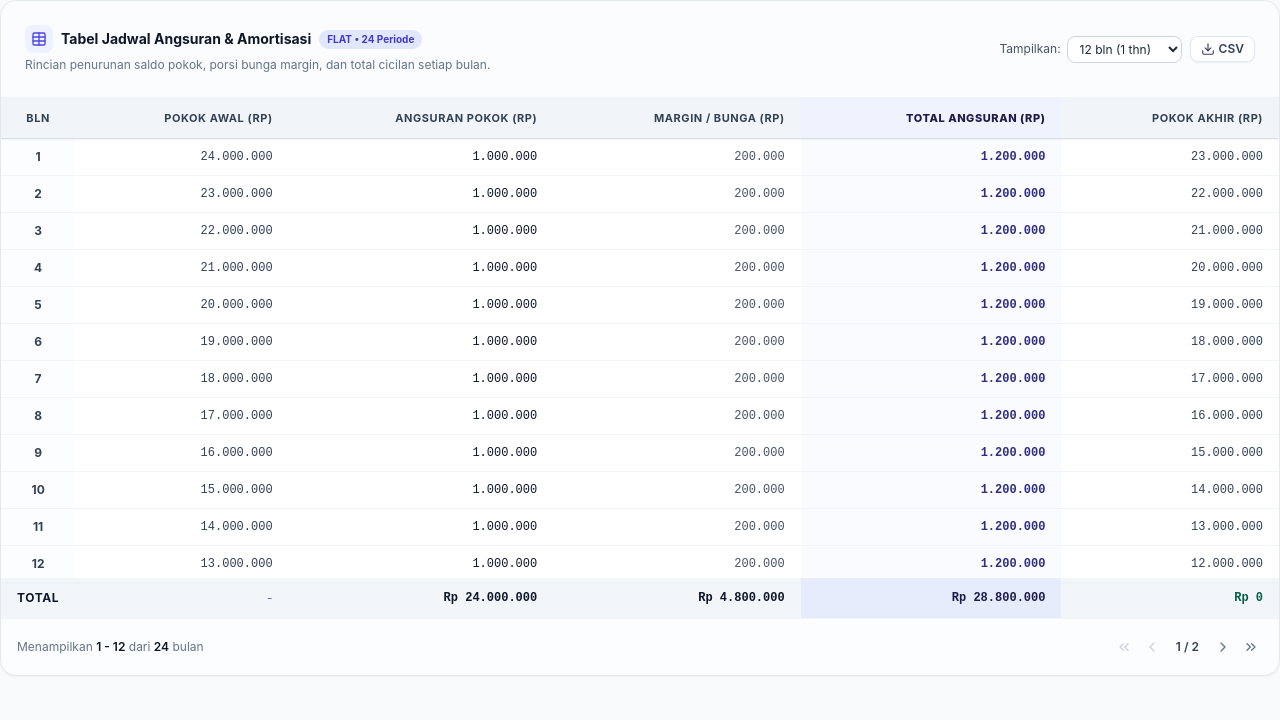
TASK-050: Amortization UI Table Tests › should allow changing page size to show all rows
The width and height of the screenshot is (1280, 720).
Select "24 bln (2 thn)" in the dropdown with test id "amortization-pagesize-select" at (1124, 49), box [1067, 36, 1182, 62]
(page scrolled)
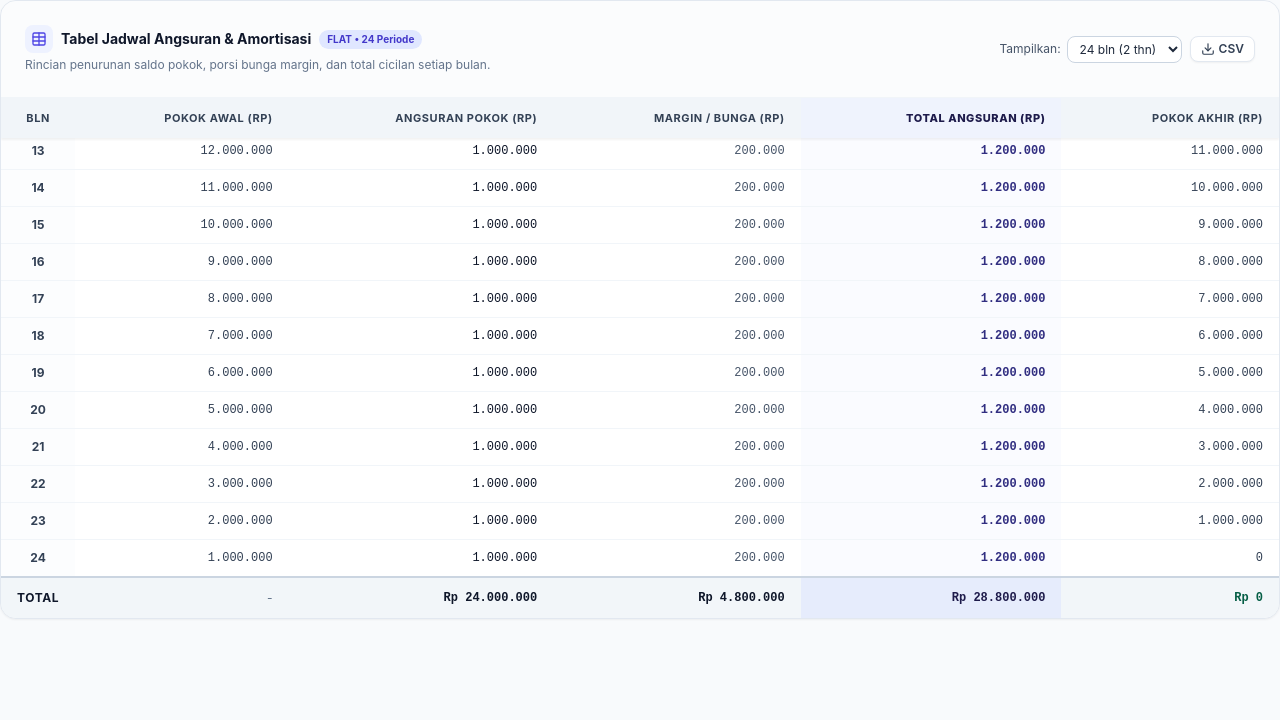
Expected: the row with test id "amortization-row-24" is shown, [1, 540, 1279, 577]
